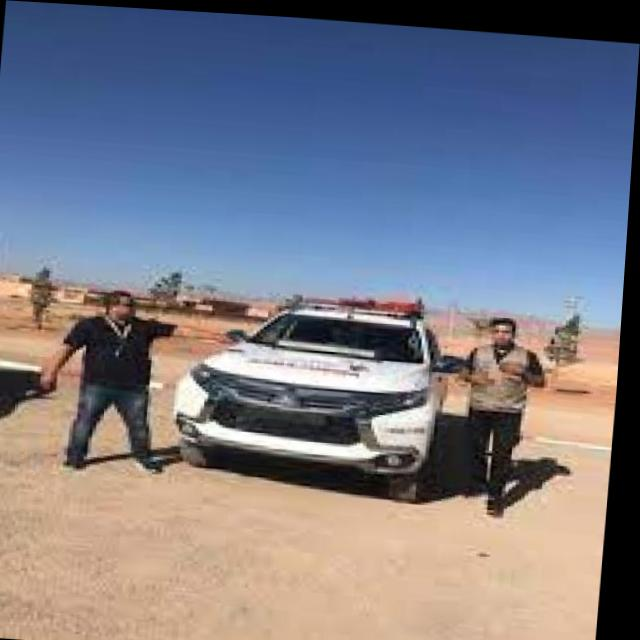ambulance: (168, 264, 483, 511)
